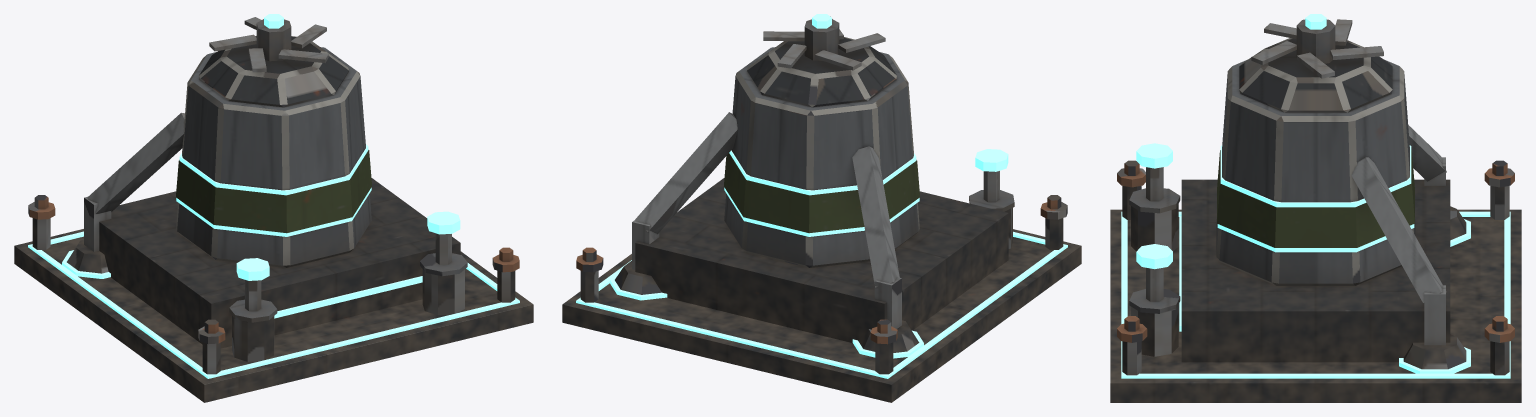
File: coletor_lixo.glb
3 views of the same model, side by side, from view 1: azimuth 30°, elevation 25°; view 2: azimuth 150°, elevation 25°; view 3: azimuth 270°, elevation 25° (orthographic). The views are drawn at different scales.
Visible parts, largest first — view 1: coletor_lixo_corpo, coletor_lixo_rotor, coletor_lixo_pistao0, coletor_lixo_pistao1; view 2: coletor_lixo_corpo, coletor_lixo_rotor, coletor_lixo_pistao0; view 3: coletor_lixo_corpo, coletor_lixo_rotor, coletor_lixo_pistao0, coletor_lixo_pistao1.
Boxes of the visible parts, <box> form: coletor_lixo_corpo: <box>14,36,533,402</box>; coletor_lixo_rotor: <box>209,14,328,72</box>; coletor_lixo_pistao0: <box>236,258,269,311</box>; coletor_lixo_pistao1: <box>427,211,460,264</box>; coletor_lixo_corpo: <box>562,37,1081,402</box>; coletor_lixo_rotor: <box>763,14,885,70</box>; coletor_lixo_pistao0: <box>975,149,1008,202</box>; coletor_lixo_corpo: <box>1110,38,1521,402</box>; coletor_lixo_rotor: <box>1251,14,1383,78</box>; coletor_lixo_pistao0: <box>1136,143,1172,201</box>; coletor_lixo_pistao1: <box>1136,244,1172,301</box>.
Size of the model in its own units: 1.9 by 1.52 by 1.9.
Materials: 2 (1 with a texture image).
